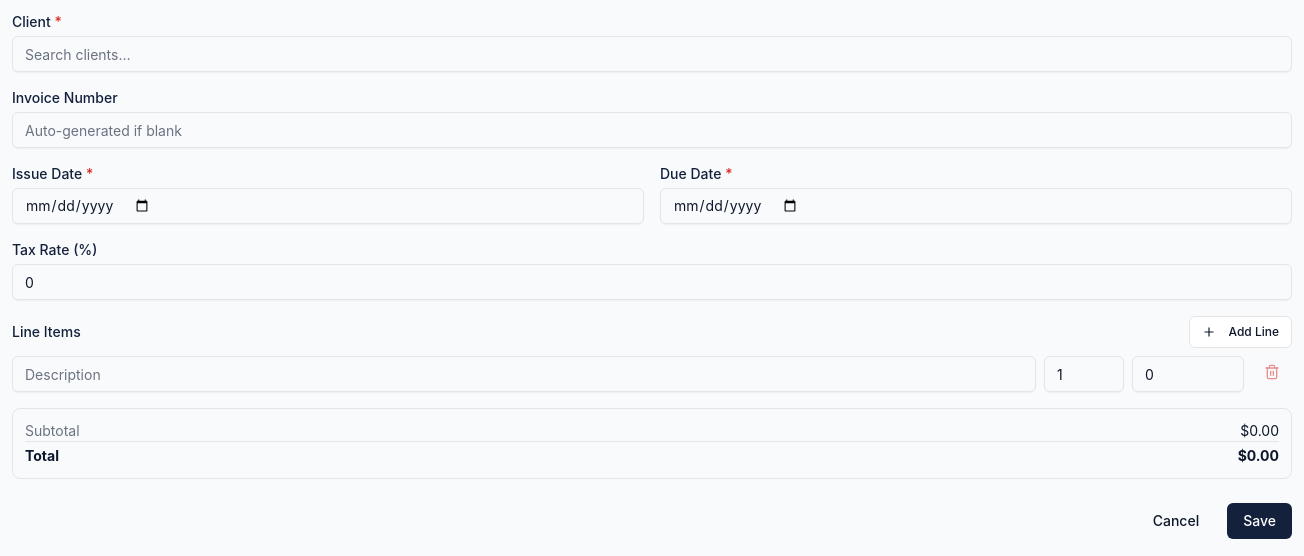
InvoiceForm › selects client from dropdown
Click the field with test id "input-client-search" at [652, 54], box [12,36,1292,72]
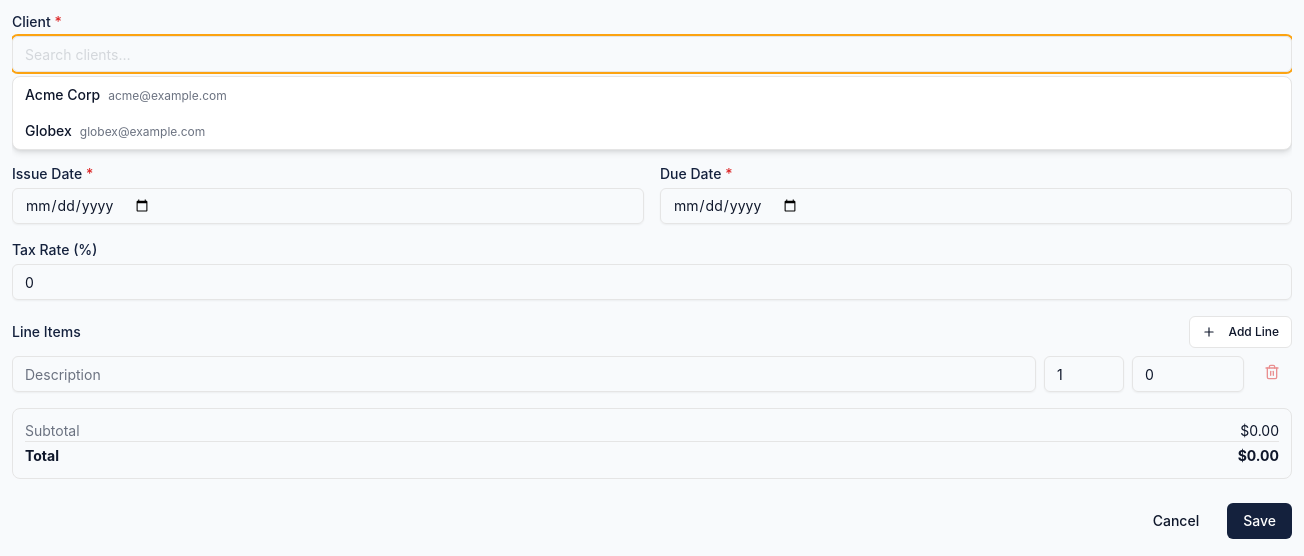
expect the button with test id "client-option-uuid-1" is shown: met
Click the button with test id "client-option-uuid-1" at [63, 94], box [13,77,1291,113]
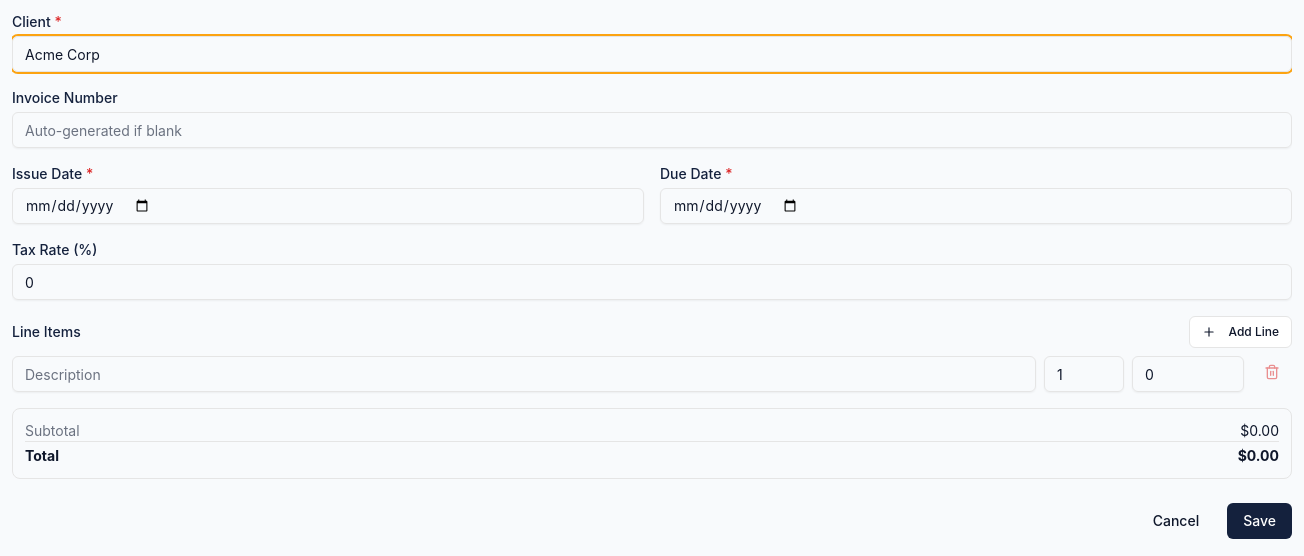
expect the field with test id "input-client-search" holds "Acme Corp": met, box [12,36,1292,72]
